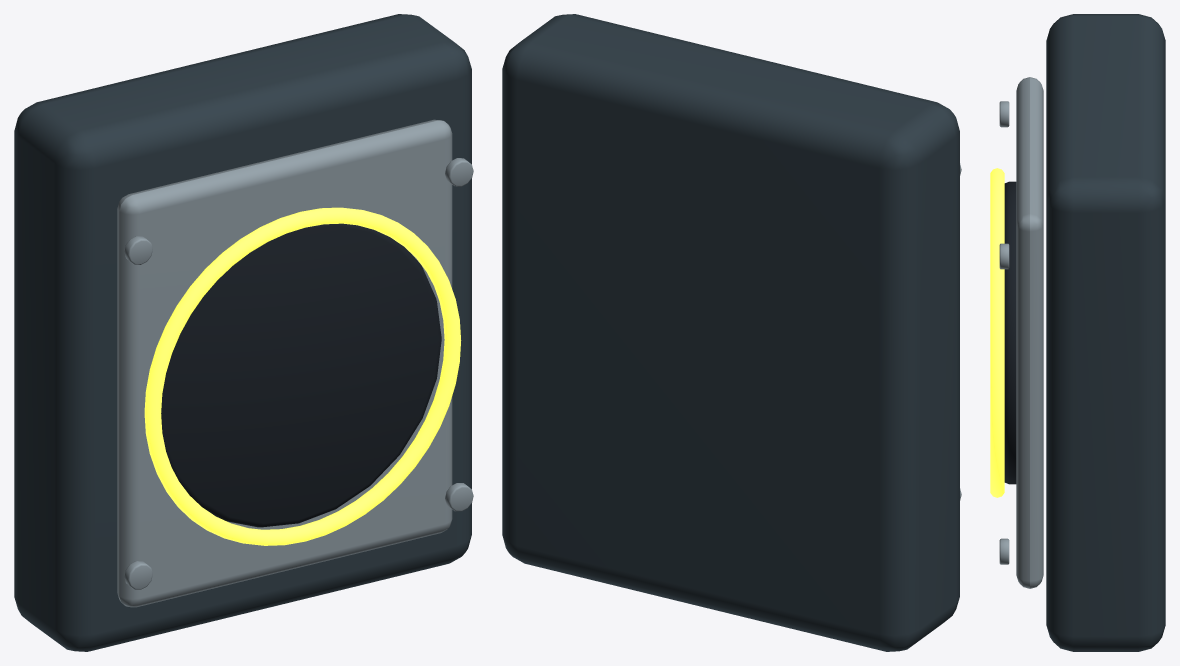
File: socket.glb
The picture shows the model from 3 angles, left to right: view 1: azimuth 30°, elevation 25°; view 2: azimuth 150°, elevation 25°; view 3: azimuth 270°, elevation 25°; orthographic projection. The views are drawn at different scales.
Parts seen in each view (by area): view 1: Core socket plate, Core socket recess, Core socket panel, Core socket guide, Socket screw.003, Socket screw.001; view 2: Core socket plate; view 3: Core socket plate, Core socket panel, Core socket guide, Core socket recess, Socket screw.001, Socket screw.002, Socket screw.003.
Part boxes in pixels (box(x1,y1,x2,y2)): Core socket plate: box(14, 14, 471, 651); Core socket recess: box(161, 223, 441, 527); Core socket panel: box(117, 119, 452, 607); Core socket guide: box(144, 207, 461, 545); Socket screw.003: box(445, 158, 473, 186); Socket screw.001: box(124, 236, 152, 264); Core socket plate: box(502, 14, 959, 651); Core socket plate: box(1046, 14, 1165, 651); Core socket panel: box(1016, 77, 1043, 588); Core socket guide: box(990, 168, 1004, 497); Core socket recess: box(1004, 181, 1016, 484); Socket screw.001: box(999, 101, 1009, 127); Socket screw.002: box(999, 538, 1009, 564); Socket screw.003: box(999, 243, 1009, 269).
Size of the model in its own units: 0.4 by 0.48 by 0.1617.
